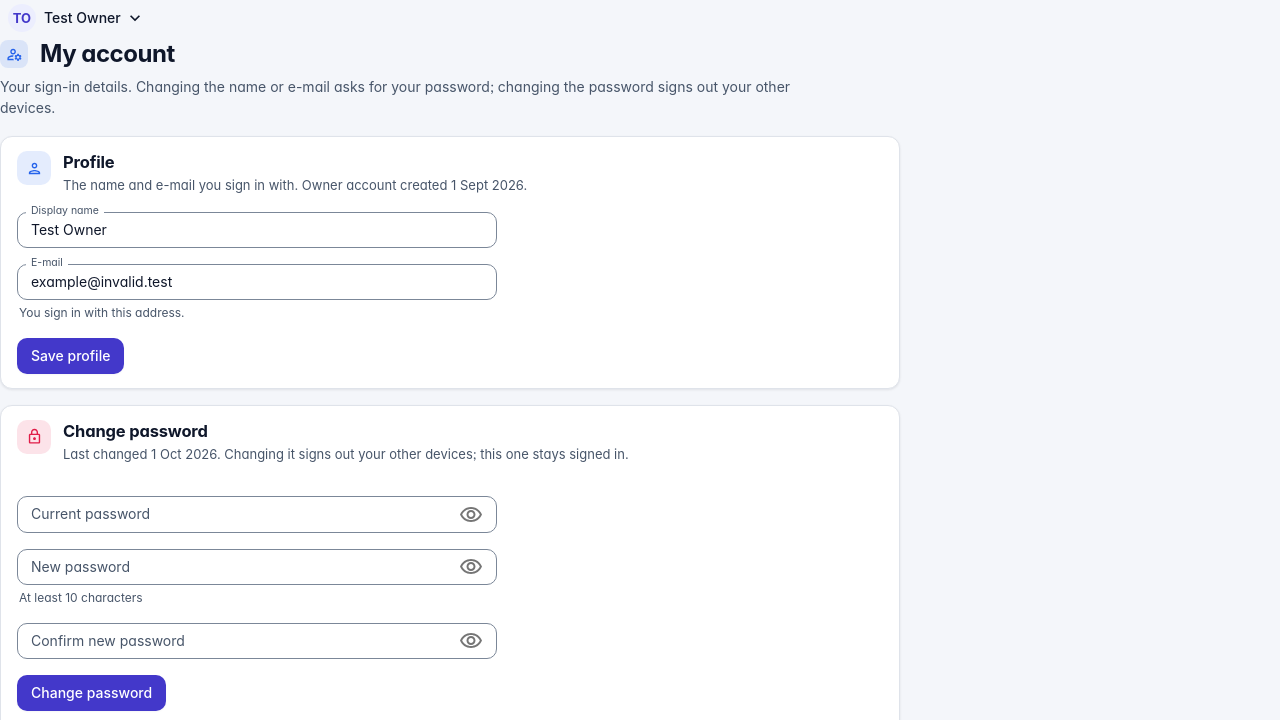
Test: My account: profile › asks for the password, saves, shows a toast and updates the name in the top-bar menu
Expected: the button with aria-label "Account menu, Test Owner" is shown, [0,0,153,36]
Replace the text in the field labelled "Display name" with "Asha Rao" at (257, 230), box [17,212,497,248]
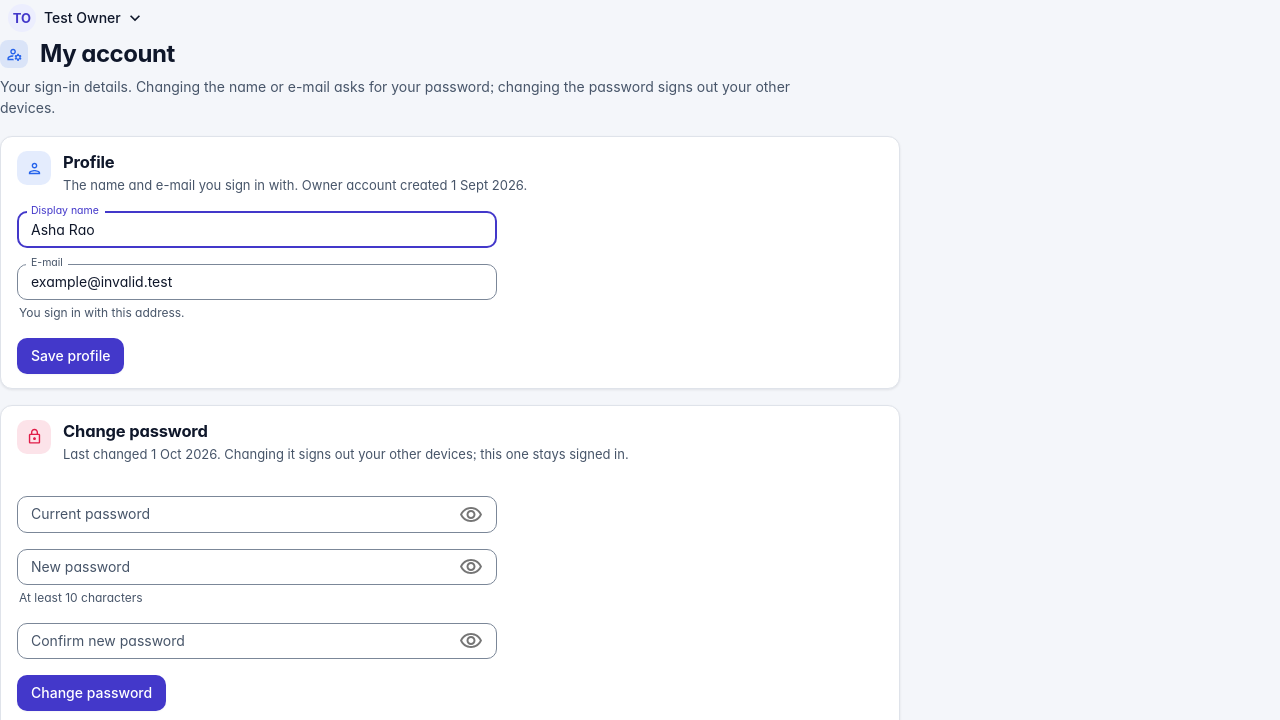
Replace the text in the field labelled "E-mail" with "Asha@Example.test" at (257, 282), box [17,264,497,300]
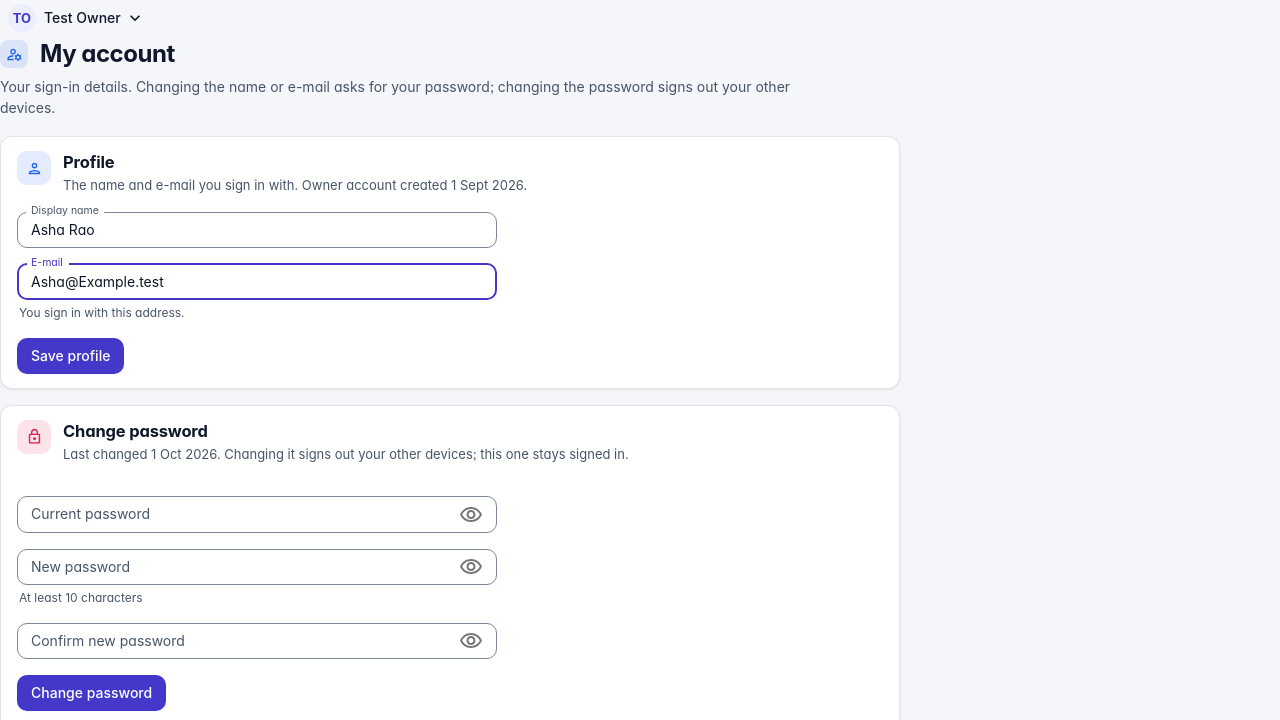
Click the button "Save profile".
click(71, 356)  # box [17,338,124,374]
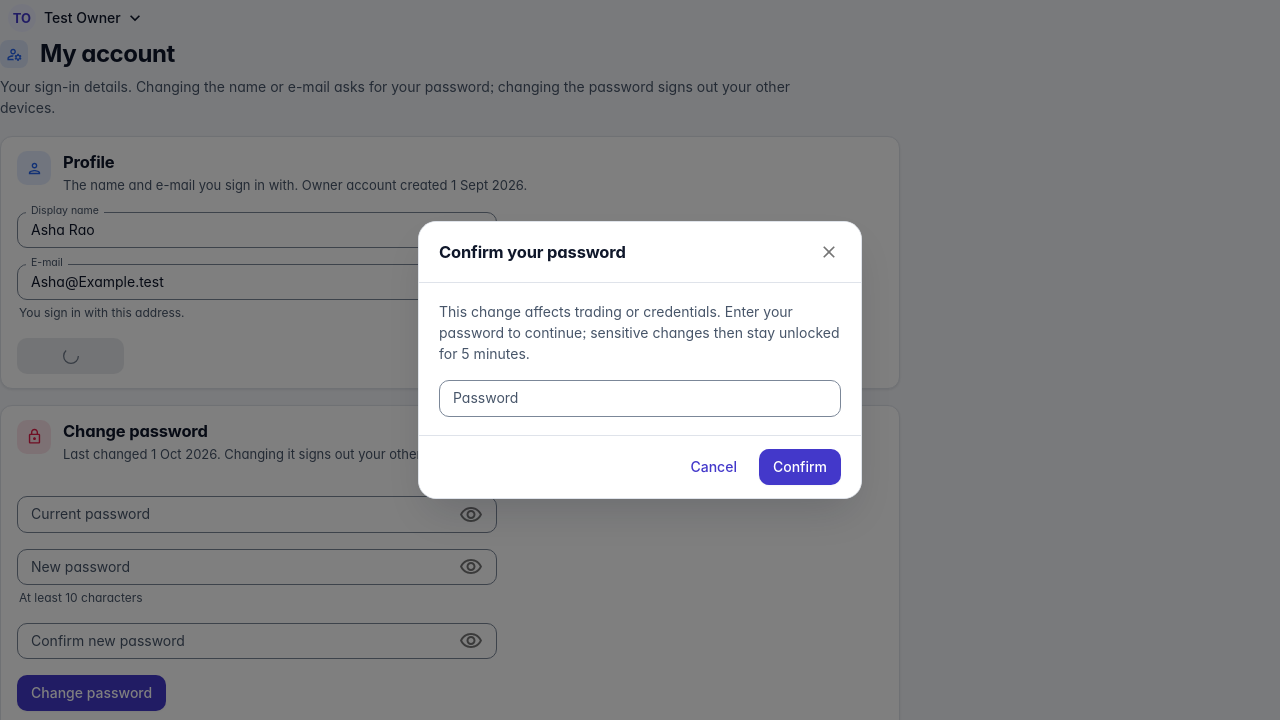
Type "correct-password" into the password field labelled "Password".
click(640, 398); type("correct-password")  # box [439,380,841,416]
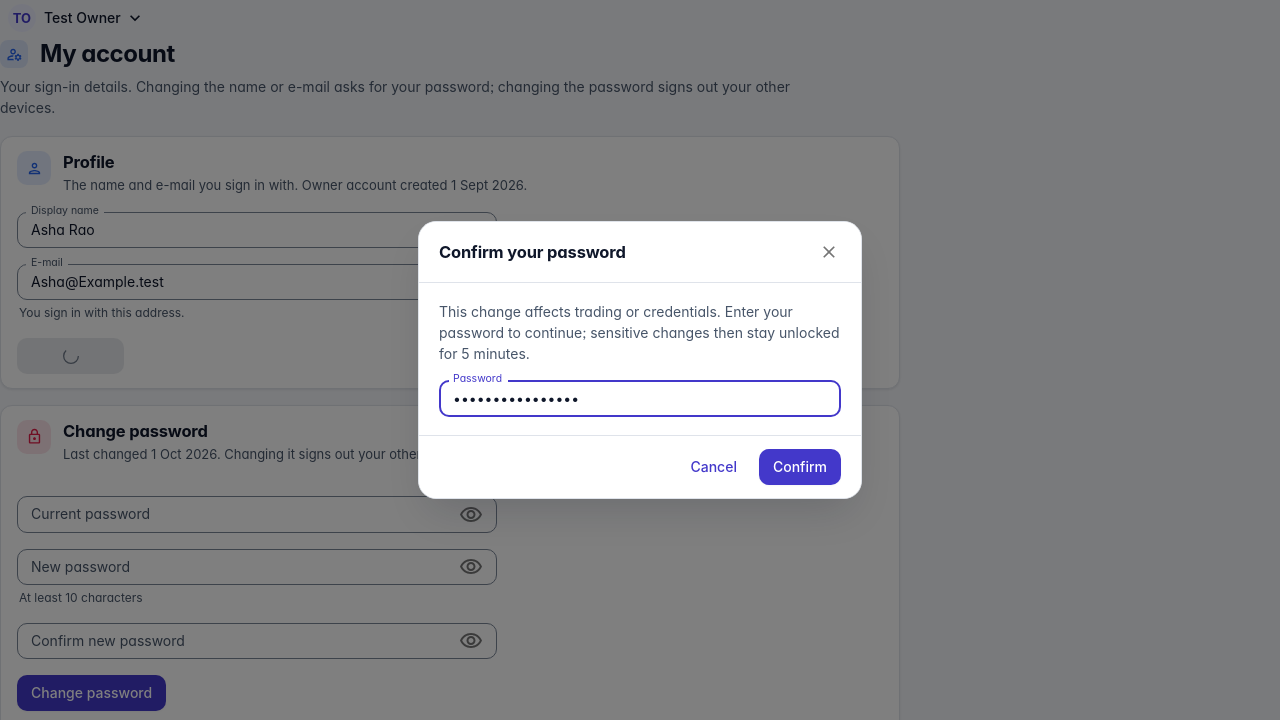
Click the button "Confirm".
click(800, 467)  # box [759,449,841,485]
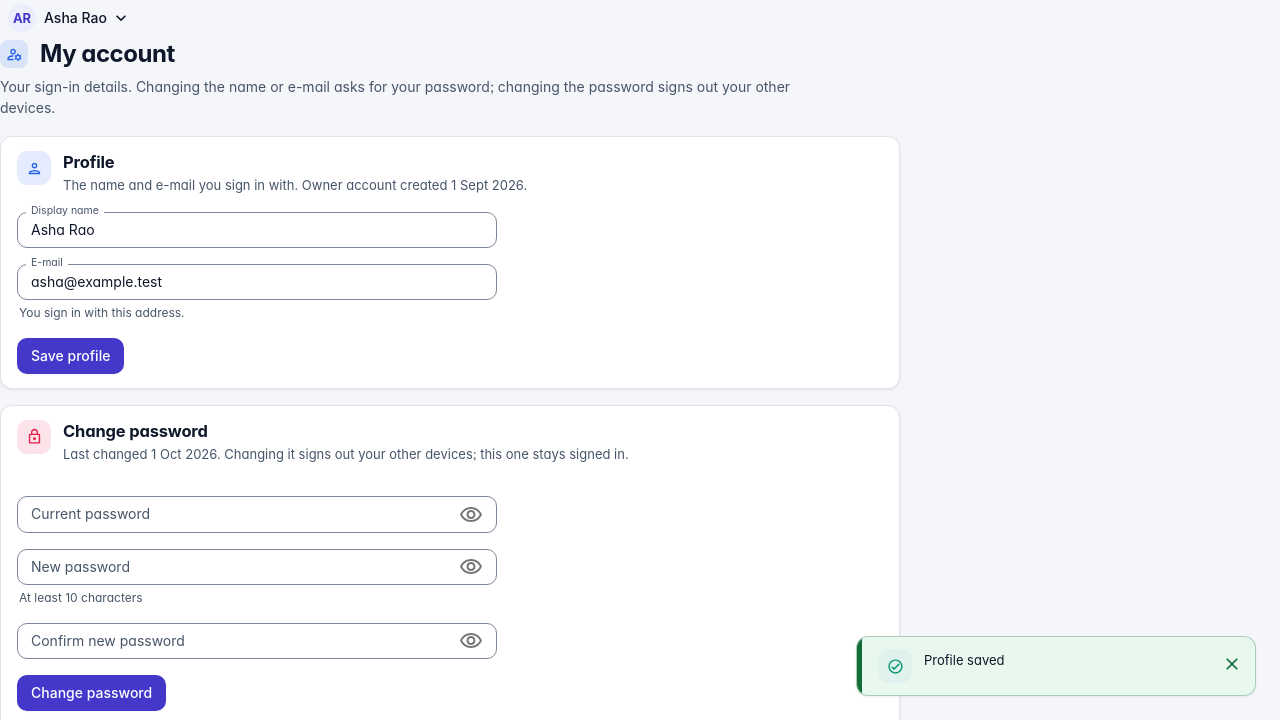
Result: the text "Profile saved" is shown at [924,652,1004,668]
Result: the button with aria-label "Account menu, Asha Rao" is shown at [0,0,139,36]
Click the button "Save profile".
click(71, 356)  # box [17,338,124,374]
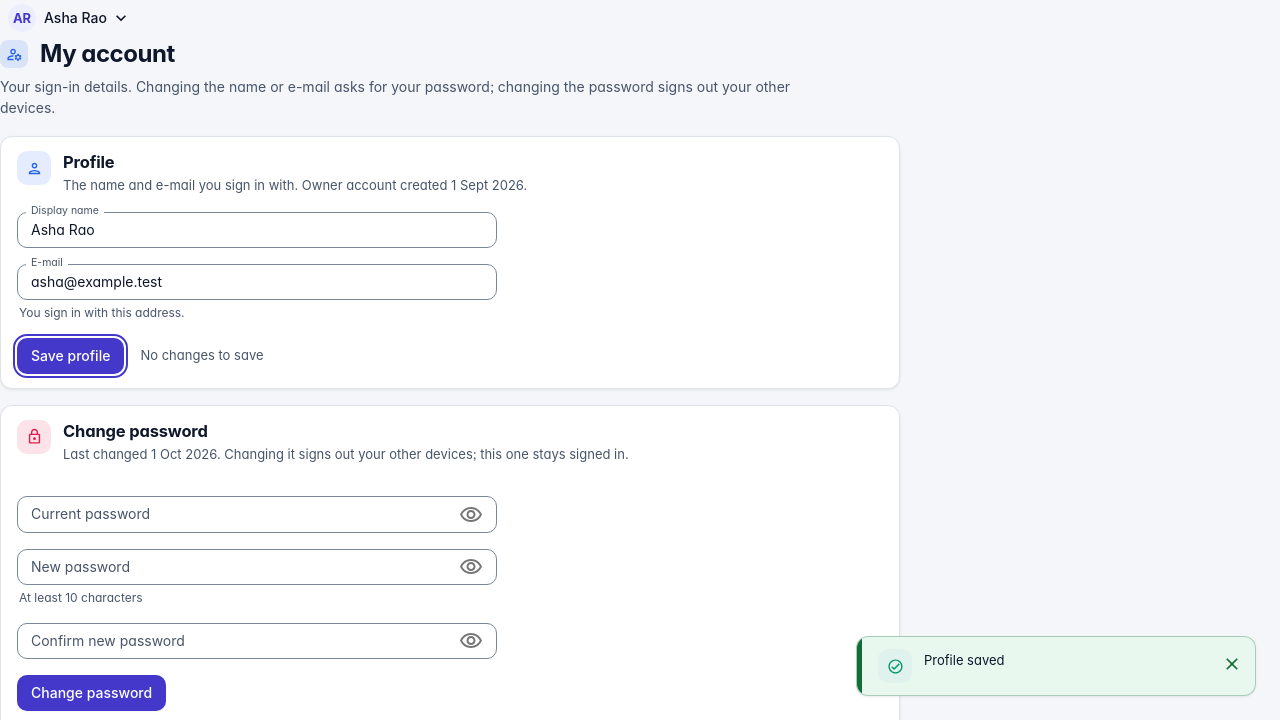
Result: the text "No changes to save" is shown at [140,346,264,366]
